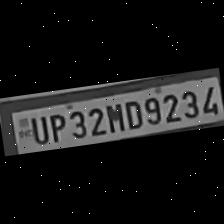2: (158, 90, 182, 124), (85, 104, 107, 138)
3: (64, 106, 88, 140), (177, 87, 200, 120)
4: (196, 84, 219, 118)
9: (140, 93, 162, 126)
D: (121, 96, 144, 130)
M: (102, 100, 124, 134)
P: (46, 110, 68, 144)
U: (25, 113, 48, 146)
